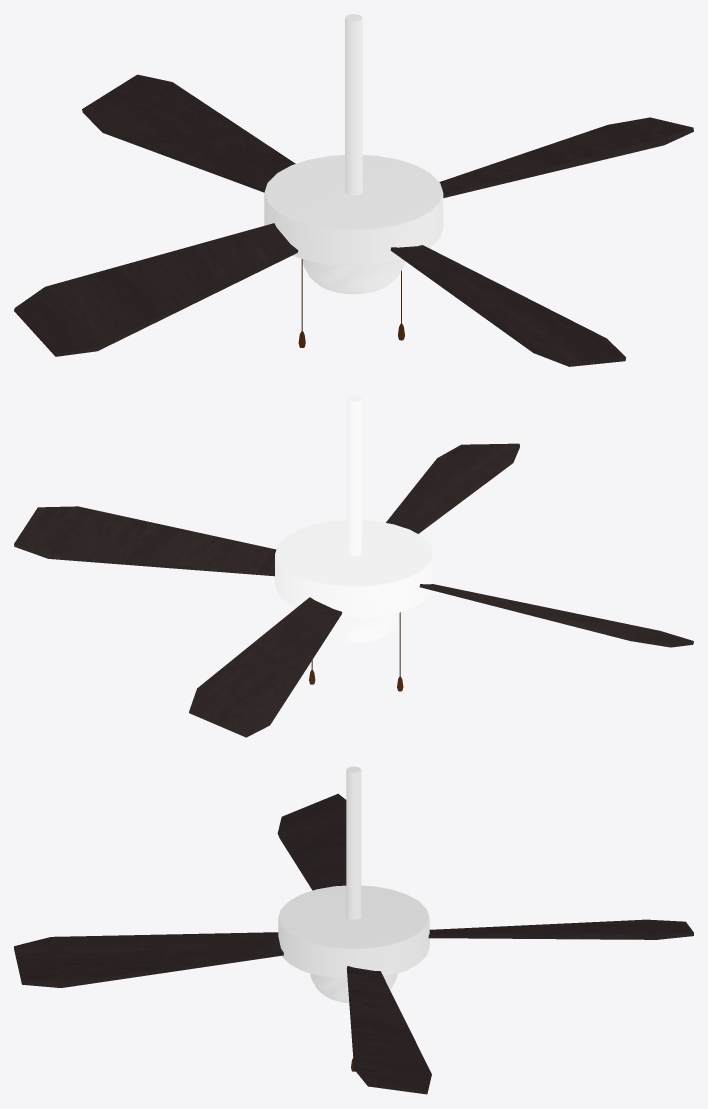
File: FP319:Cylinder_314_a38a2fed.obj
The picture shows the model from 3 angles, top to bottom: view 1: azimuth 30°, elevation 25°; view 2: azimuth 150°, elevation 25°; view 3: azimuth 270°, elevation 25°; orthographic projection. The views are drawn at different scales.
Visible parts, largest first — view 1: FP319:Cylinder.314_a38a2fed; view 2: FP319:Cylinder.314_a38a2fed; view 3: FP319:Cylinder.314_a38a2fed.
Part boxes in pixels (x1=…): FP319:Cylinder.314_a38a2fed: x1=14, y1=14, x2=693, y2=366; FP319:Cylinder.314_a38a2fed: x1=14, y1=395, x2=693, y2=737; FP319:Cylinder.314_a38a2fed: x1=14, y1=766, x2=693, y2=1094.
Size of the model in its own units: 1.57 by 0.7183 by 1.57.
